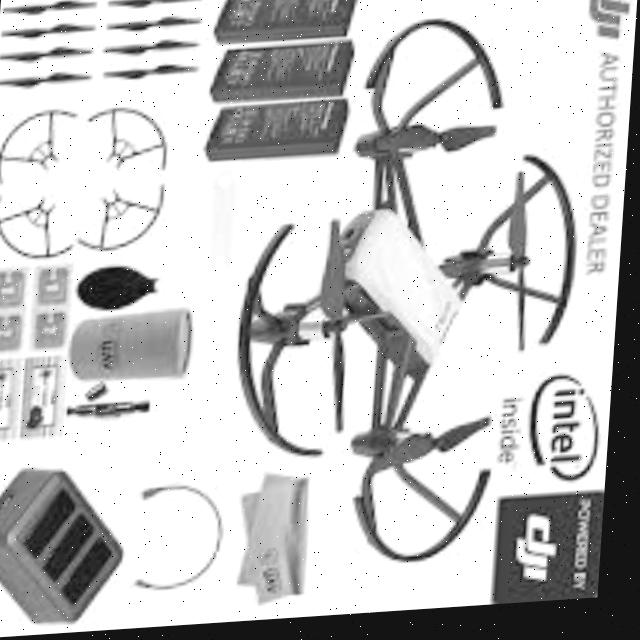drone: (232, 8, 594, 583)
